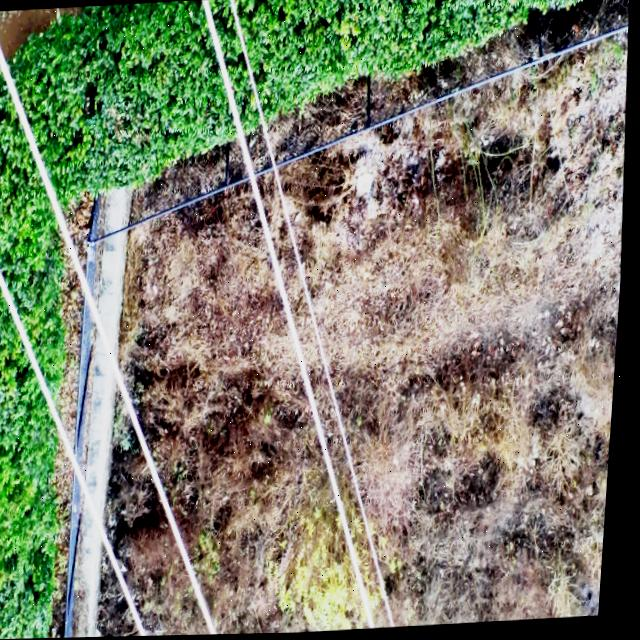wires: (0, 46, 225, 636), (202, 0, 383, 630), (230, 0, 402, 629), (0, 261, 156, 637)
